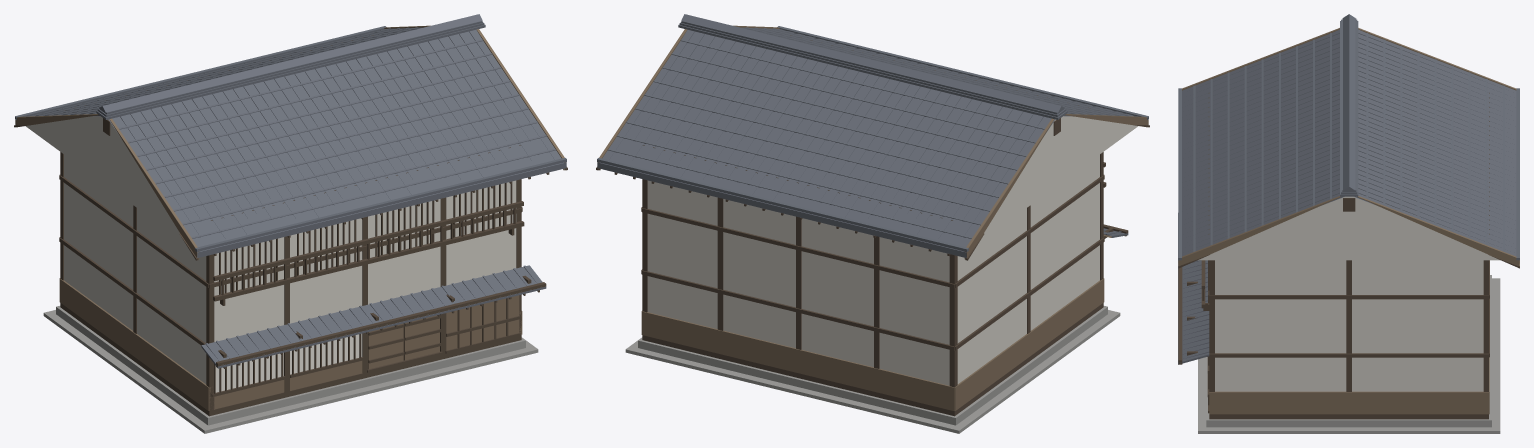
File: machiya_n_a.glb
3 views of the same model, side by side, from view 1: azimuth 30°, elevation 25°; view 2: azimuth 150°, elevation 25°; view 3: azimuth 270°, elevation 25° (orthographic). The views are drawn at different scales.
Visible parts, largest first — view 1: machiya_n_a; view 2: machiya_n_a; view 3: machiya_n_a.
Part boxes in pixels (x1,y1,x2,y2): machiya_n_a: (14,14,567,433); machiya_n_a: (596,14,1149,433); machiya_n_a: (1178,14,1519,433).
Bounding box in the file's own units: 11.18 × 7.72 × 9.29.
